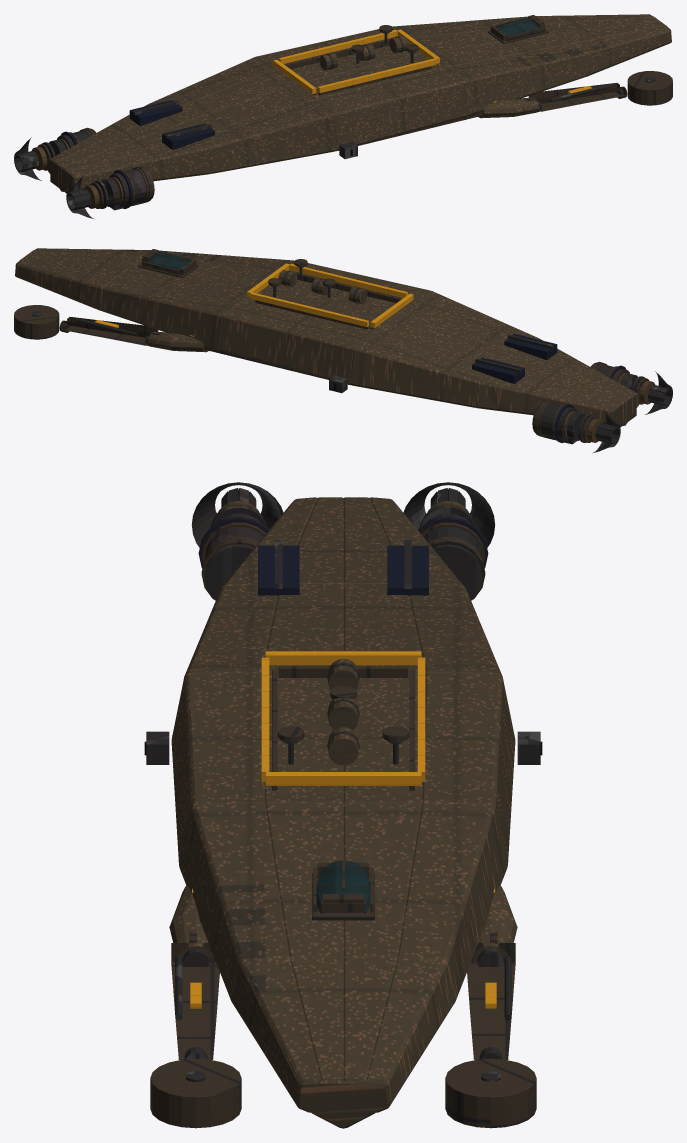
The model's file is salvage_cutter_production_v1_lod2.glb.
3 renders of one model, top to bottom at view 1: azimuth 30°, elevation 25°; view 2: azimuth 150°, elevation 25°; view 3: azimuth 270°, elevation 25°, orthographic. The views are drawn at different scales.
Visible parts, largest first — view 1: LOD2_Hull, LOD2_Armor, LOD2_Mechanical, LOD2_Warning, LOD2_Radiator, LOD2_Ceramic, LOD2_Canopy; view 2: LOD2_Hull, LOD2_Armor, LOD2_Mechanical, LOD2_Warning, LOD2_Radiator, LOD2_Ceramic, LOD2_Canopy; view 3: LOD2_Hull, LOD2_Armor, LOD2_Mechanical, LOD2_Warning, LOD2_Radiator, LOD2_Canopy.
Boxes of the visible parts, x1,y1,x2,y2 form: LOD2_Hull: (48, 14, 671, 191); LOD2_Armor: (37, 15, 672, 208); LOD2_Mechanical: (14, 33, 655, 219); LOD2_Warning: (273, 29, 591, 94); LOD2_Radiator: (60, 100, 214, 208); LOD2_Ceramic: (31, 138, 123, 208); LOD2_Canopy: (354, 18, 539, 53); LOD2_Hull: (15, 248, 638, 425); LOD2_Armor: (14, 249, 649, 442); LOD2_Mechanical: (31, 267, 672, 453); LOD2_Warning: (95, 263, 413, 328); LOD2_Radiator: (472, 334, 626, 442); LOD2_Ceramic: (563, 372, 655, 442); LOD2_Canopy: (147, 252, 332, 287); LOD2_Hull: (169, 497, 517, 1128); LOD2_Armor: (150, 503, 536, 1128); LOD2_Mechanical: (146, 482, 540, 1082); LOD2_Warning: (190, 651, 496, 1008); LOD2_Radiator: (198, 516, 488, 595); LOD2_Canopy: (283, 741, 403, 913).
Size of what is drawn, in the model's own units: 14.94 by 2.09 by 4.18.
9 materials, 9 textured.
